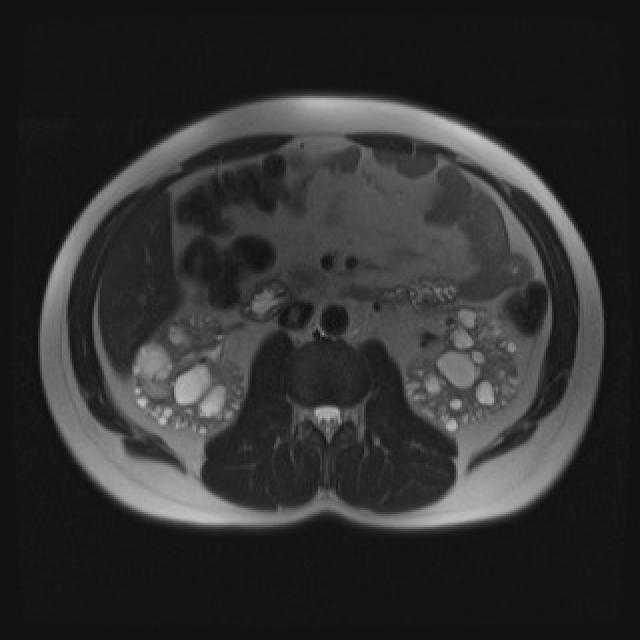sag: (131, 308, 246, 440)
sol: (402, 305, 525, 435)
